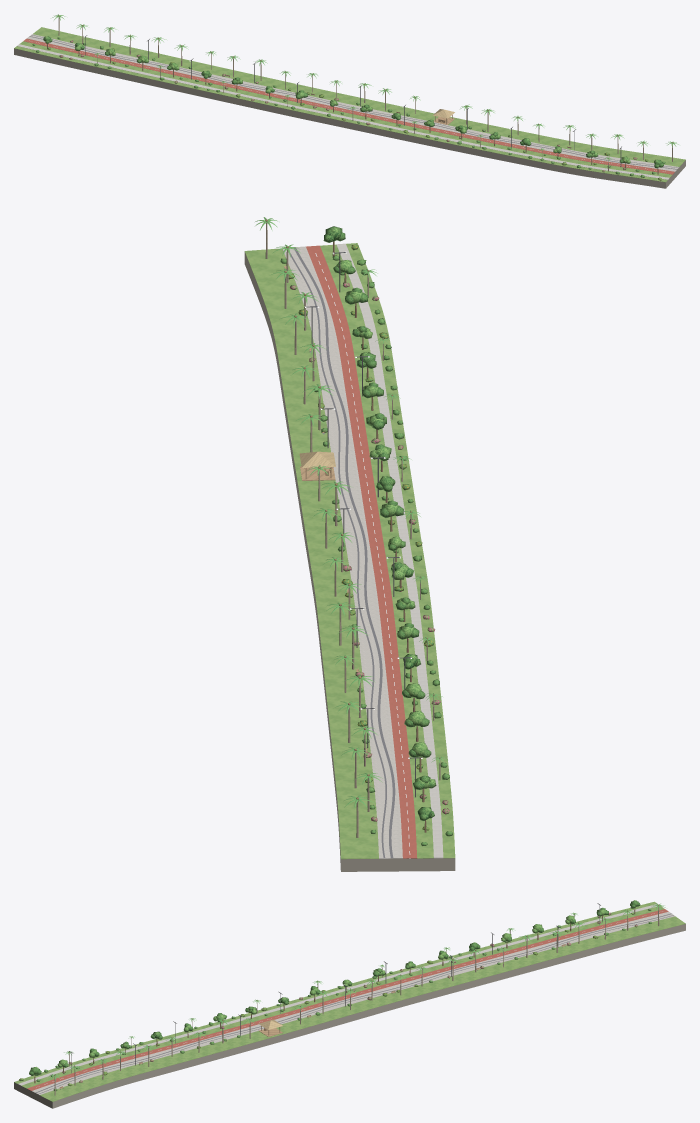
The model's file is parque_05.glb.
3 views of the same model, one above another, from view 1: azimuth 30°, elevation 25°; view 2: azimuth 150°, elevation 25°; view 3: azimuth 270°, elevation 25° (orthographic). The views are drawn at different scales.
Parts seen in each view (by area): view 1: parque_05; view 2: parque_05; view 3: parque_05.
Boxes of the visible parts, <box> form: parque_05: <box>14,27,685,188</box>; parque_05: <box>244,243,455,871</box>; parque_05: <box>14,901,685,1108</box>.
Size of the model in its own units: 188 by 13.19 by 265.
22 materials, 14 textured.
